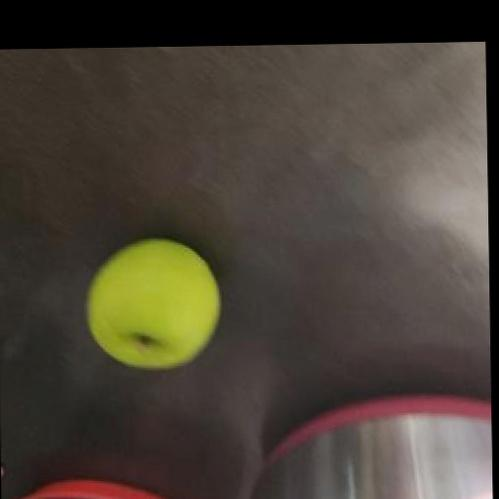green apple: (84, 235, 225, 371)
